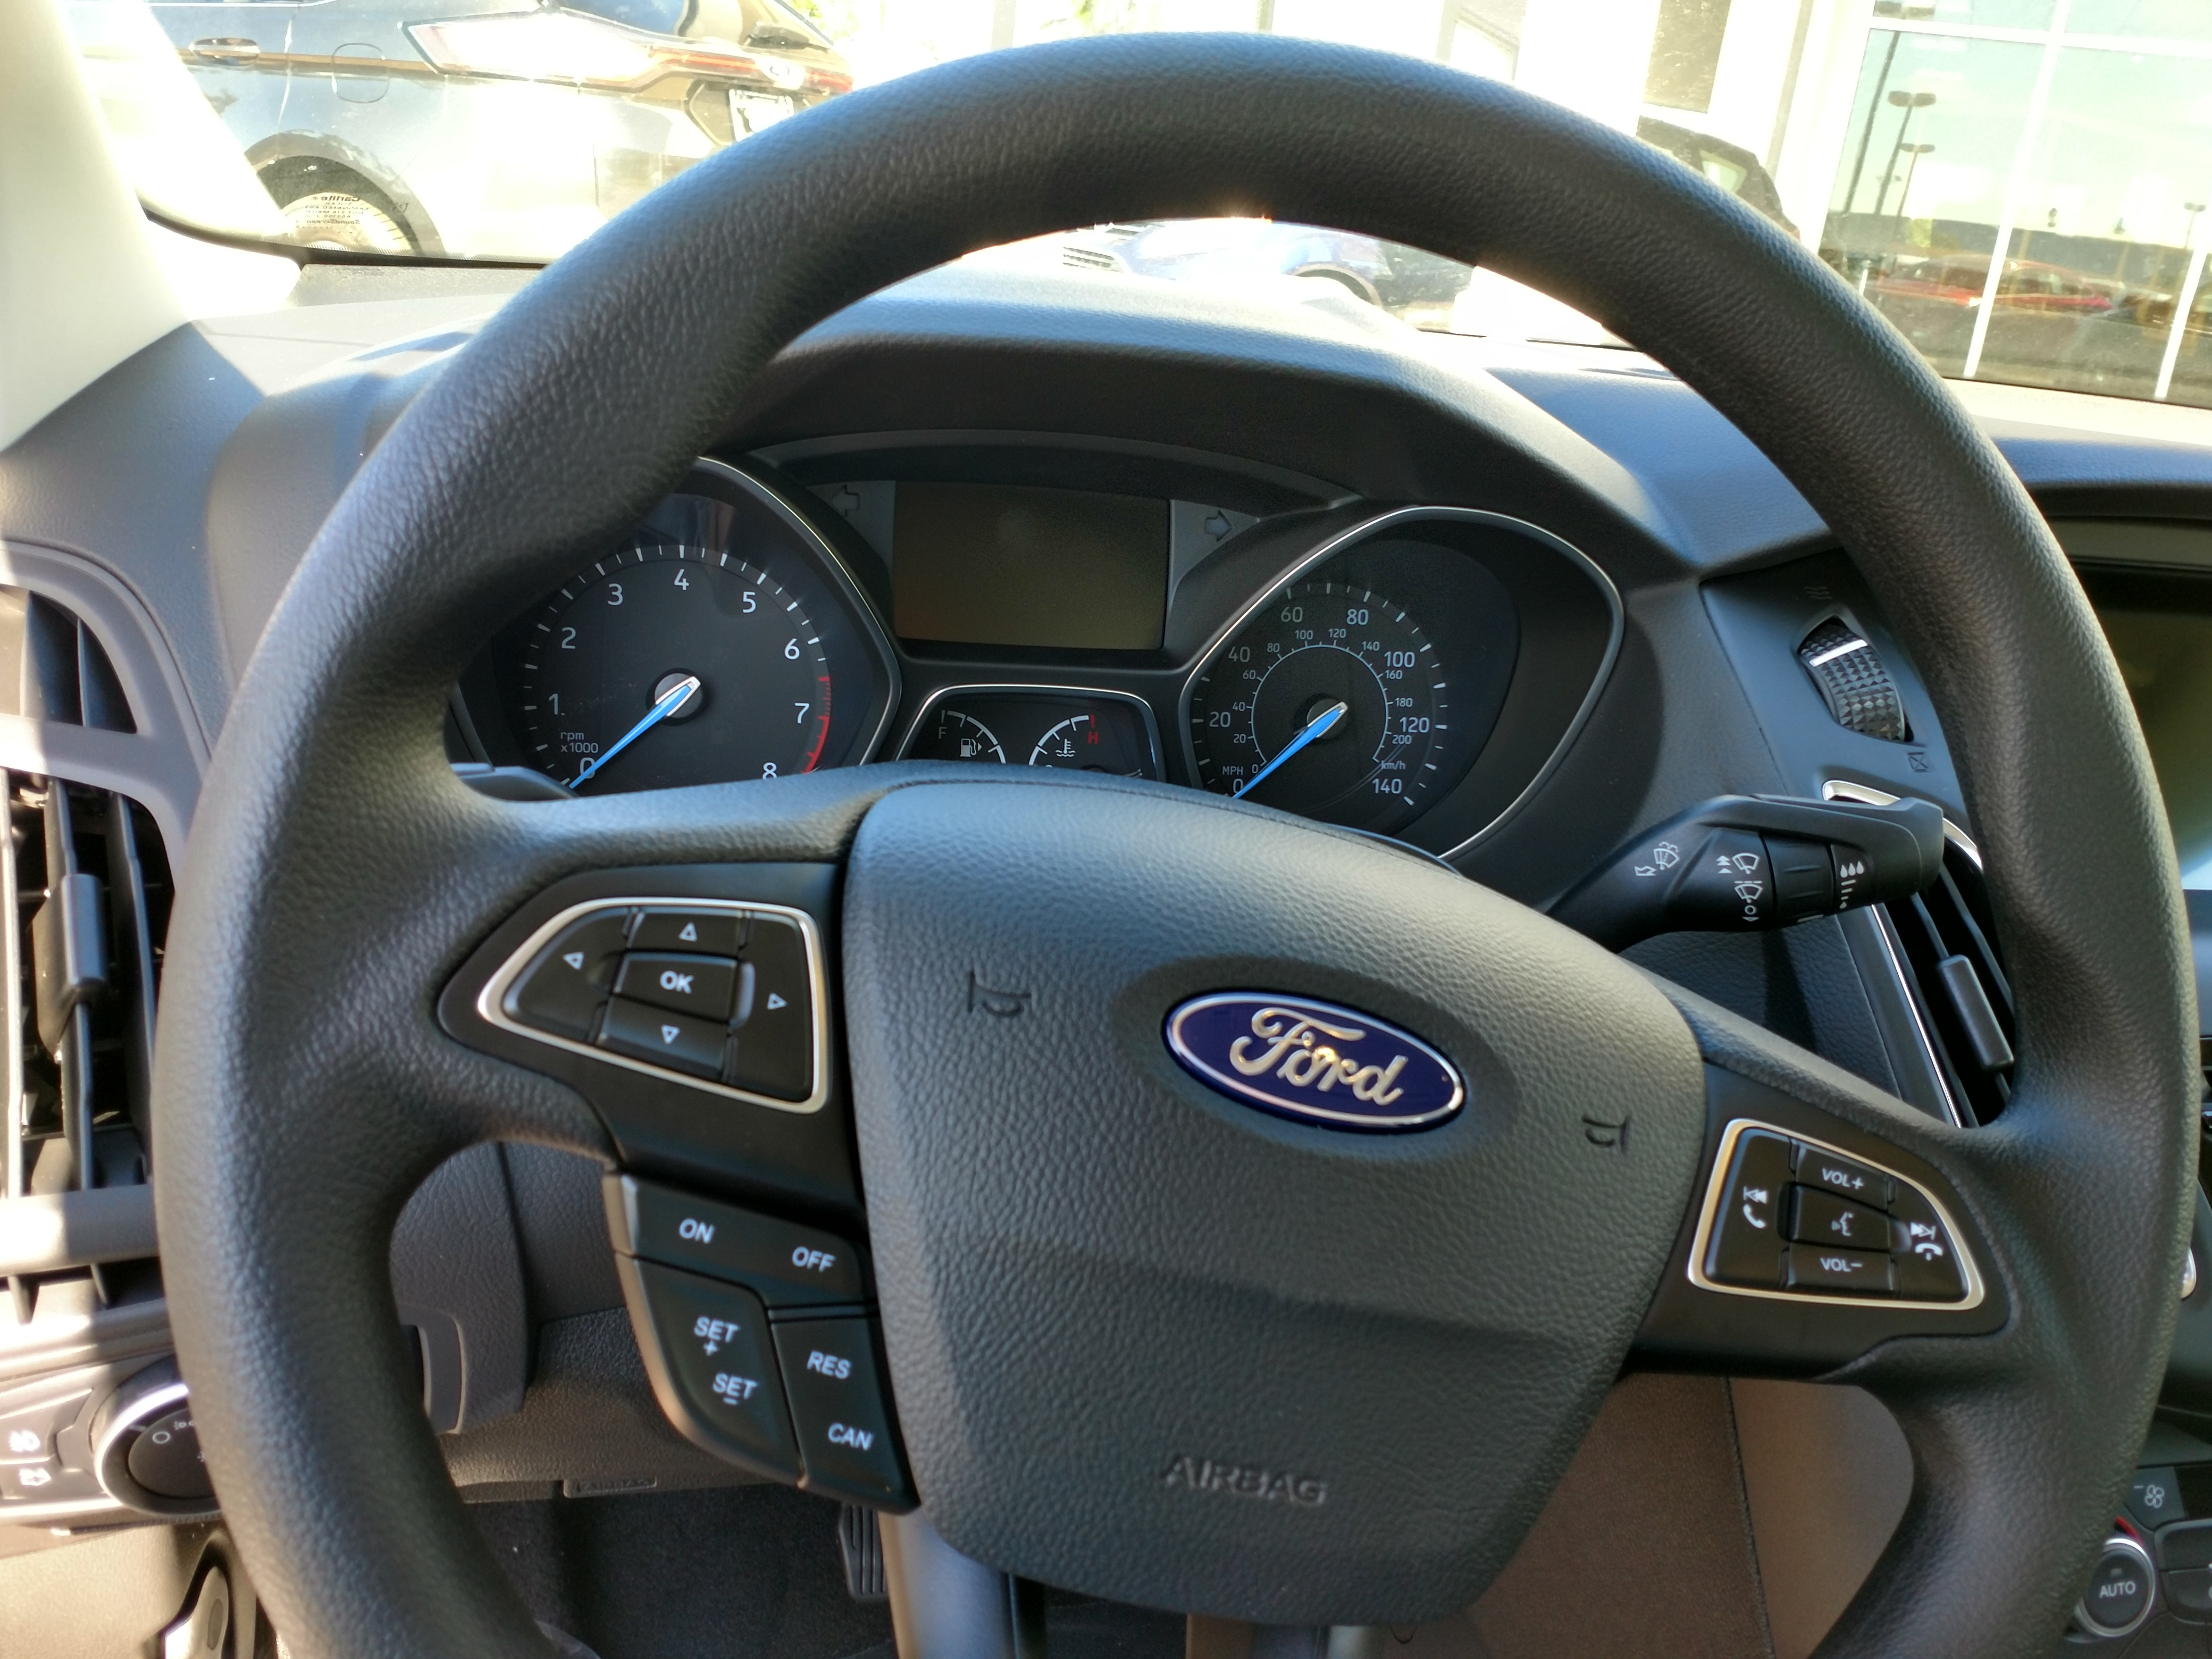Ford: (1139, 951, 1519, 1178)
